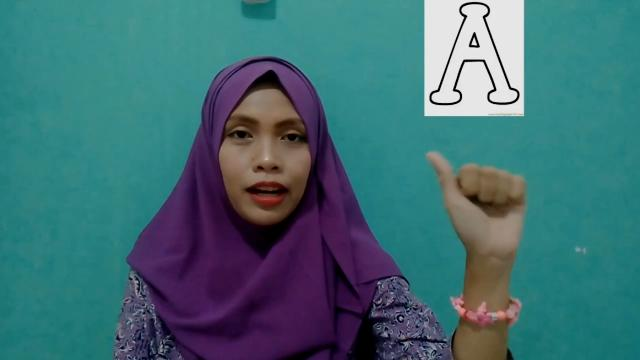A: (426, 147, 528, 267)
